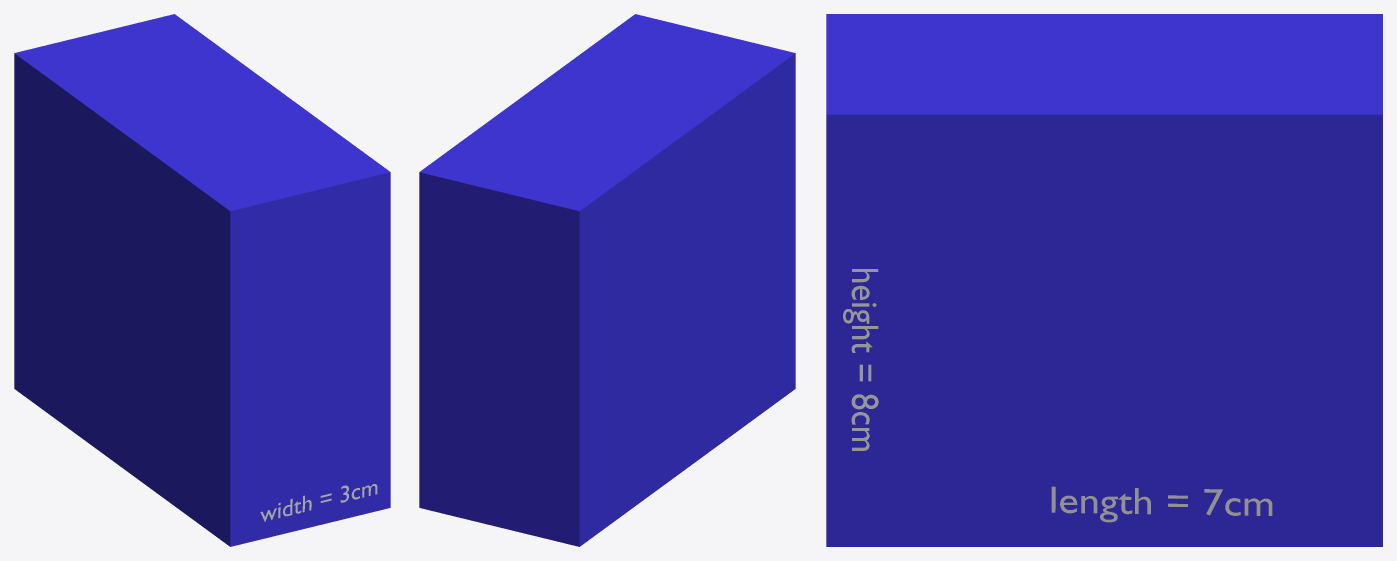
The model's file is rectang7x6x3.glb.
3 views of the same model, side by side, from view 1: azimuth 30°, elevation 25°; view 2: azimuth 150°, elevation 25°; view 3: azimuth 270°, elevation 25° (orthographic). The views are drawn at different scales.
Parts seen in each view (by area): view 1: Cube, width; view 2: Cube; view 3: Cube, length, height.
Part boxes in pixels (bbox=[...]): Cube: bbox=[14, 14, 390, 546]; width: bbox=[260, 484, 377, 521]; Cube: bbox=[419, 14, 795, 546]; Cube: bbox=[826, 14, 1382, 546]; length: bbox=[1051, 486, 1272, 522]; height: bbox=[843, 269, 878, 450].
Size of the model in its own units: 0.313 by 0.6 by 0.703.
